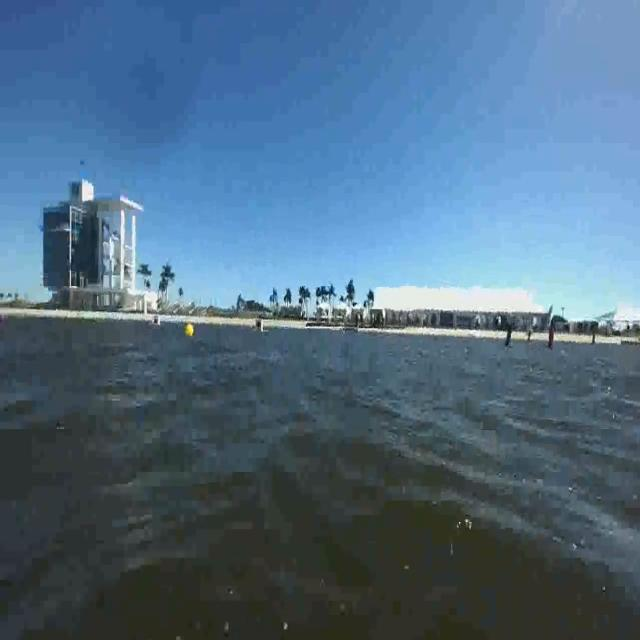green-column-buoy: (504, 324, 514, 350)
red-column-buoy: (546, 322, 556, 350)
yellow-buoy: (184, 321, 194, 338)
